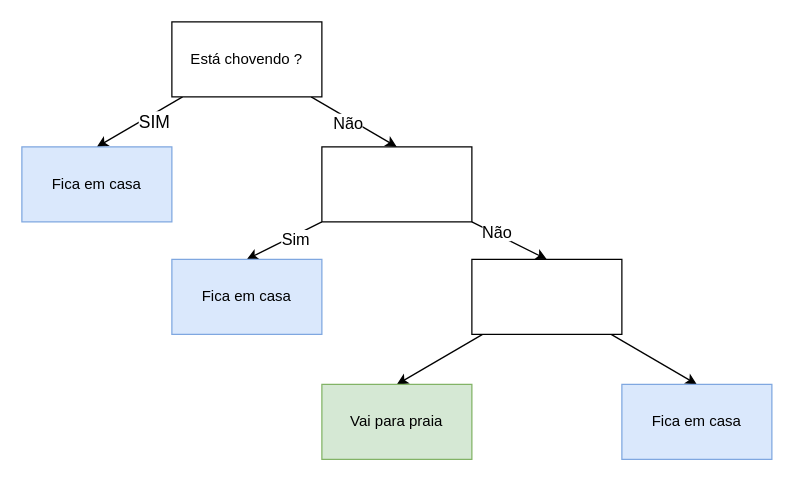
This 794x481 diagram has some shape labels left out. Here are the shapes that lost their labels. From the top down, the box of each, then its label:
(321, 146, 472, 222): Tem vento forte ?
(471, 258, 622, 334): Tem sol ?
